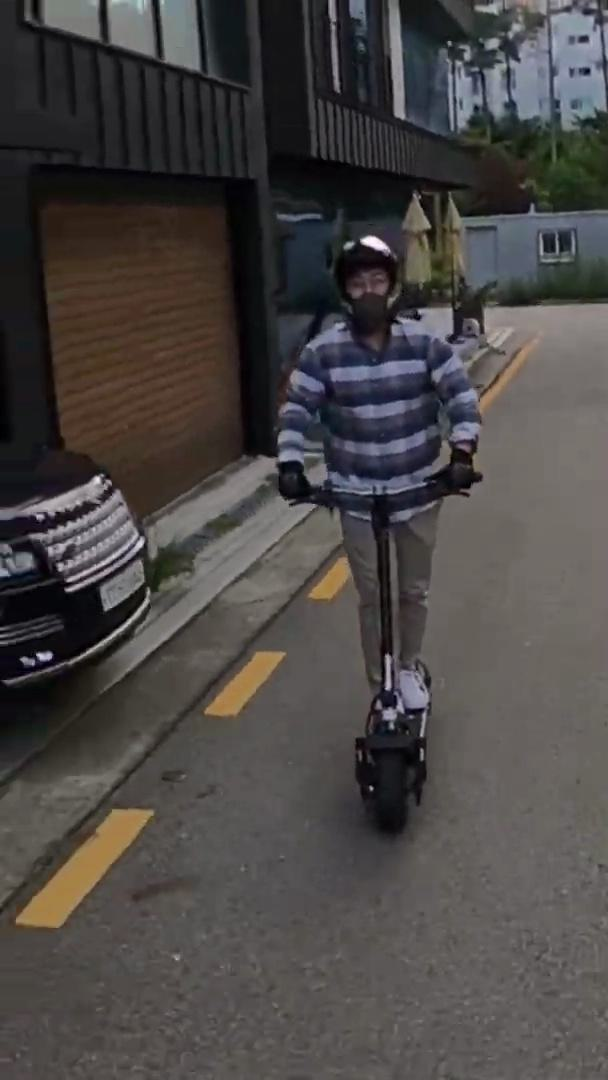helmet: (274, 235, 483, 838)
